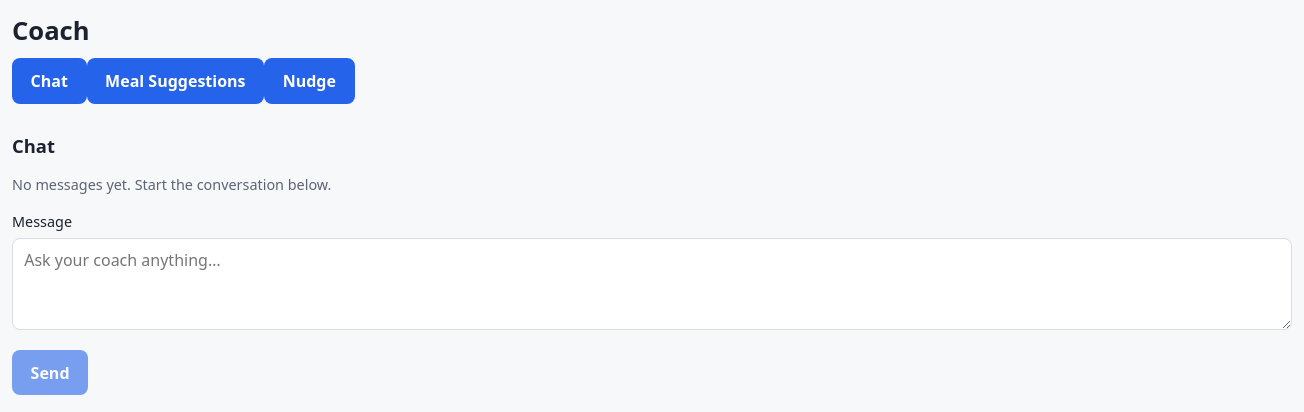
Test: CoachPage › unhides and mounts the Meal Suggestions panel when its tab is clicked
Click the tab "Meal Suggestions".
click(175, 81)  # box [86,58,264,104]
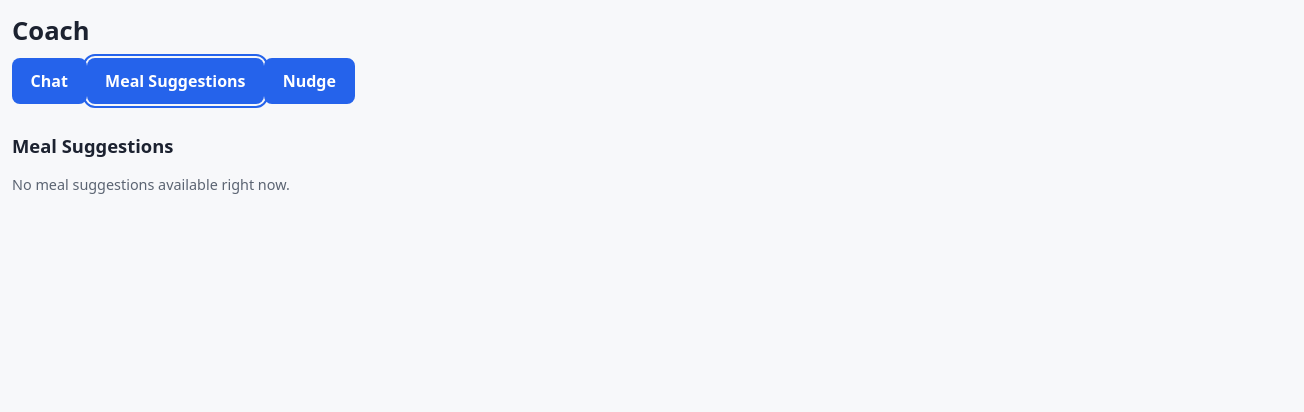
Check: the heading "Meal Suggestions" is shown, box [12,133,173,158]
